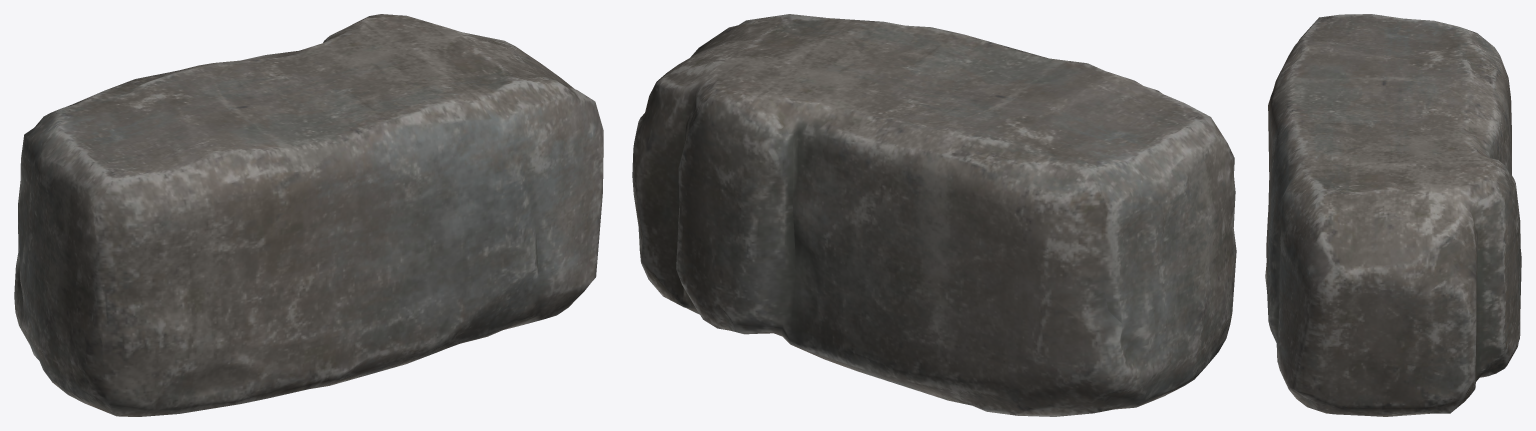
Rendered from SM_RP_Vol_01_07.fbx.
3 renders of one model, left to right at view 1: azimuth 30°, elevation 25°; view 2: azimuth 150°, elevation 25°; view 3: azimuth 270°, elevation 25°, orthographic. The views are drawn at different scales.
Visible parts, largest first — view 1: SM_RP_Vol_01_07; view 2: SM_RP_Vol_01_07; view 3: SM_RP_Vol_01_07.
Boxes of the visible parts, x1=… form: SM_RP_Vol_01_07: x1=14, y1=14, x2=603, y2=416; SM_RP_Vol_01_07: x1=632, y1=14, x2=1236, y2=416; SM_RP_Vol_01_07: x1=1265, y1=14, x2=1521, y2=416.
Bounding box in the file's own units: 34.32 × 16.19 × 16.68.
1 material, 1 textured.
